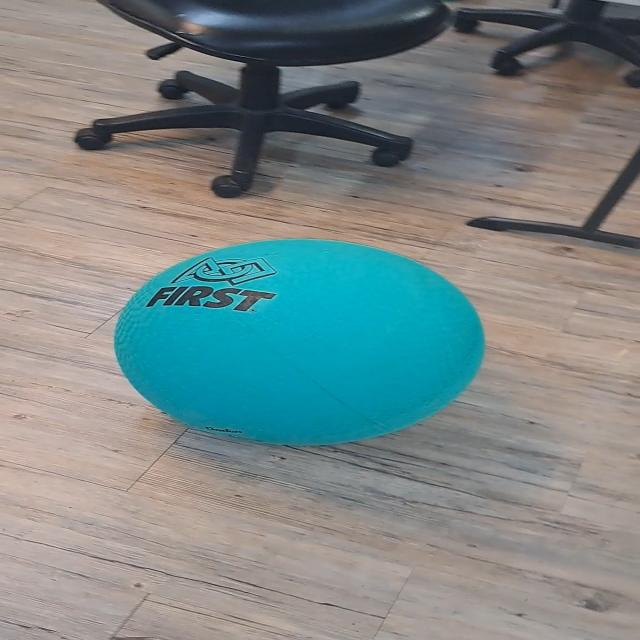ALGAE: (110, 236, 487, 448)
